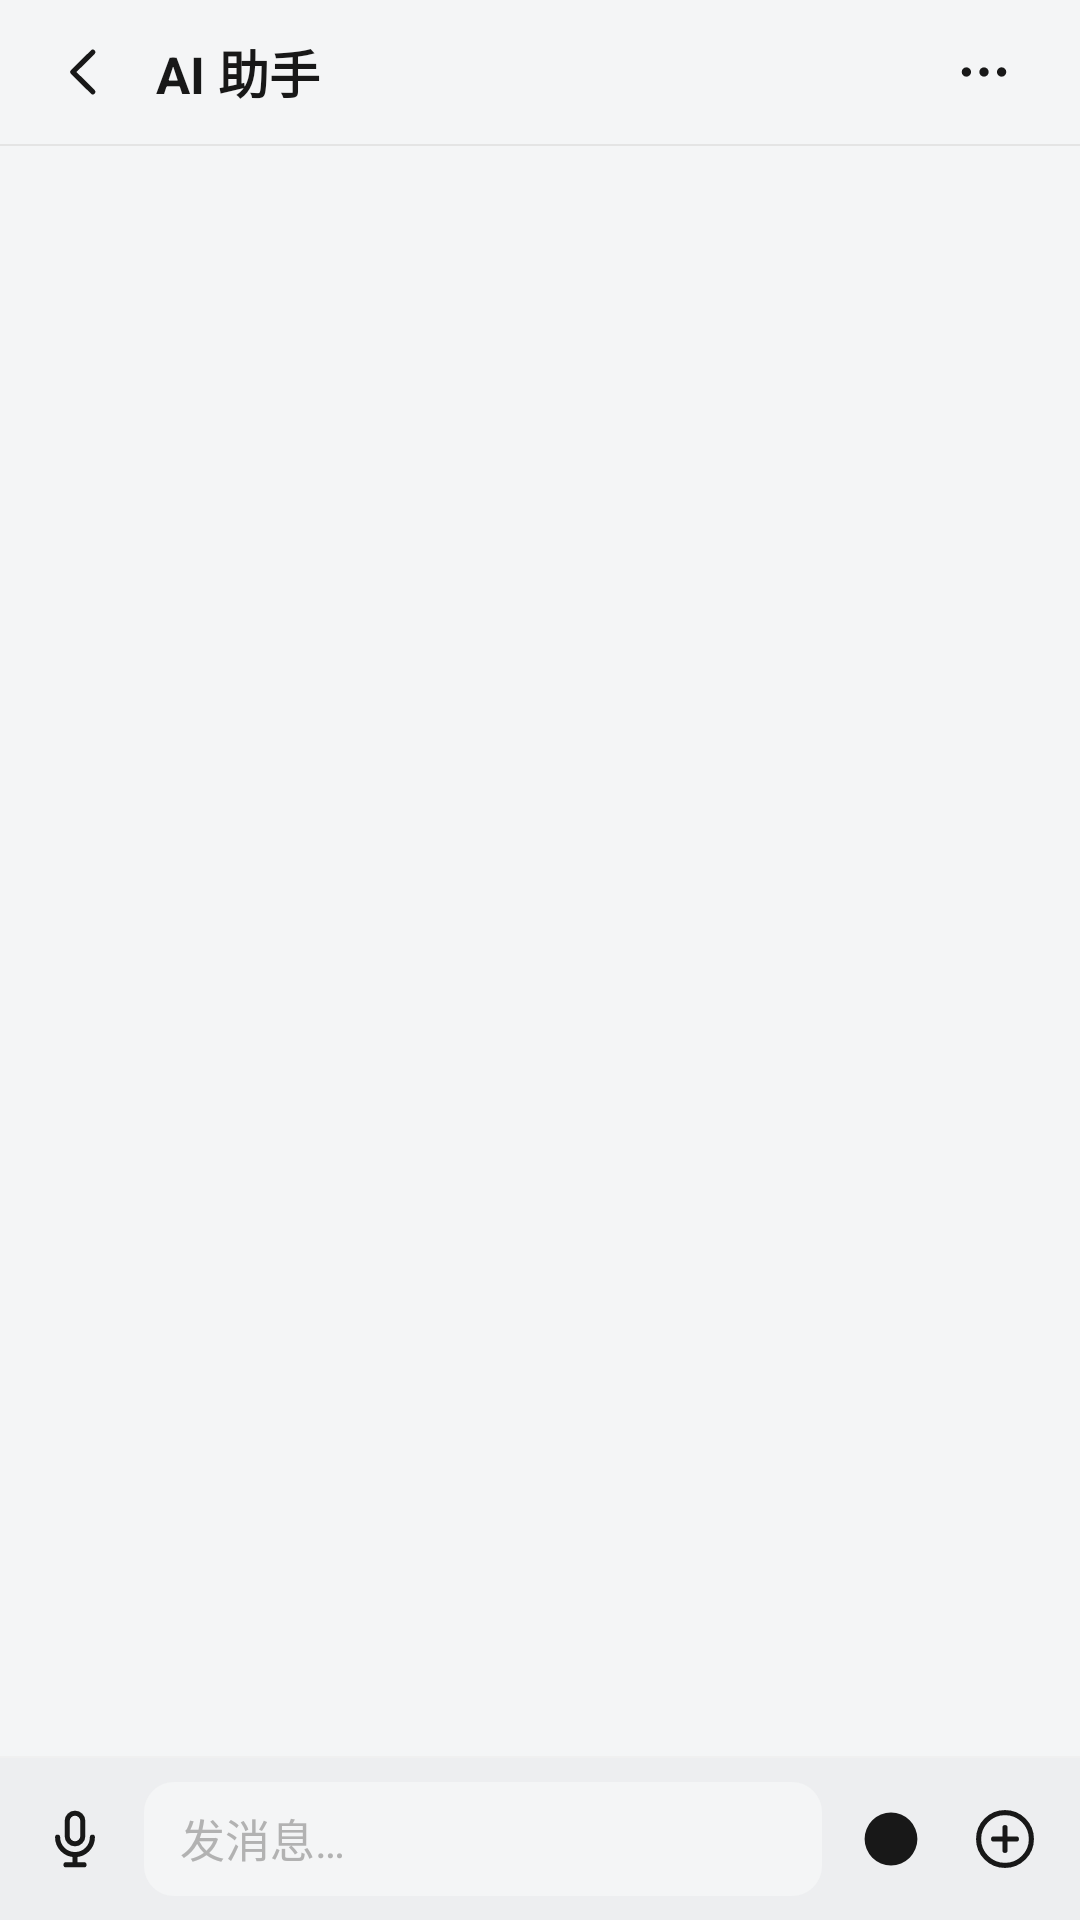

Point at icon controls on the screen. Image size 1080w x 1920h, points as (x,y).
更多: (984,72)
更多功能: (1005,1839)
语音: (75,1839)
返回: (83,72)
